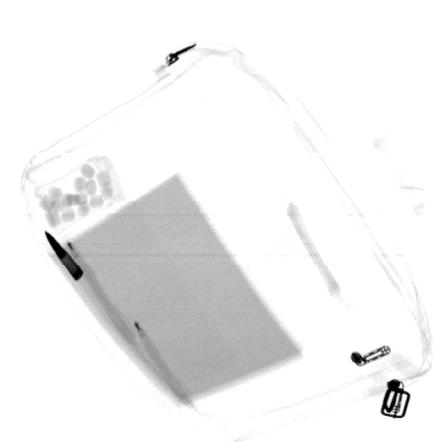Bullet: (43, 228, 85, 284)
